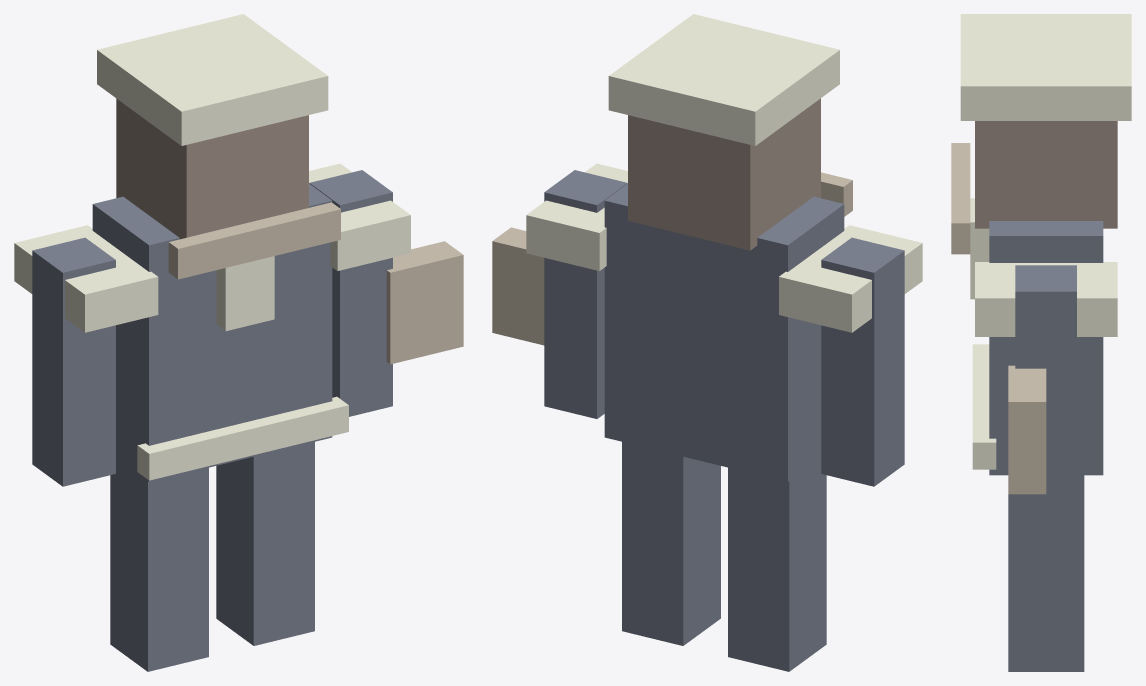
The model's file is 17_juno_glassroot_runner_of_missile.glb.
3 views of the same model, side by side, from view 1: azimuth 30°, elevation 25°; view 2: azimuth 150°, elevation 25°; view 3: azimuth 270°, elevation 25° (orthographic).
Parts seen in each view (by area): view 1: Juno Glassroot, Runner of Missile; view 2: Juno Glassroot, Runner of Missile; view 3: Juno Glassroot, Runner of Missile.
Part boxes in pixels (x1,y1,x2,y2): Juno Glassroot, Runner of Missile: (14,14,463,671); Juno Glassroot, Runner of Missile: (492,14,922,671); Juno Glassroot, Runner of Missile: (951,14,1131,671).
Size of the model in its own units: 1 by 1.39 by 0.3907.
